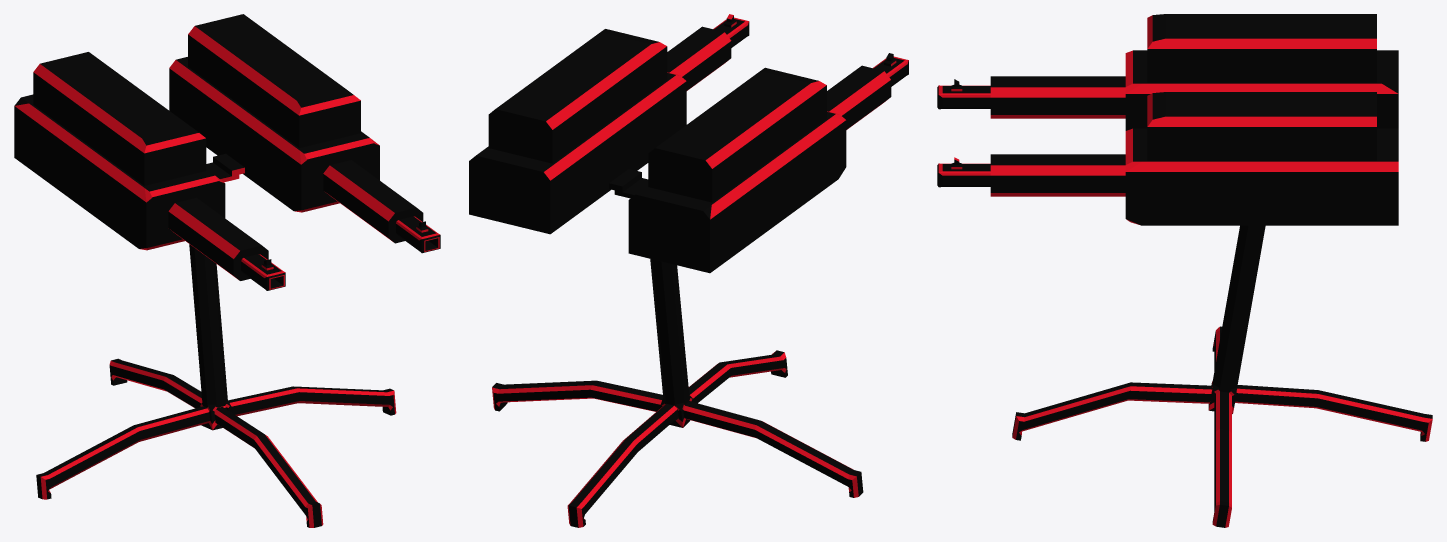
Rendered from auto-turret.fbx.
The picture shows the model from 3 angles, left to right: view 1: azimuth 30°, elevation 25°; view 2: azimuth 150°, elevation 25°; view 3: azimuth 270°, elevation 25°; orthographic projection. The views are drawn at different scales.
Visible parts, largest first — view 1: RightCanister, LeftCanister, Stand, ConnectingThing; view 2: RightCanister, LeftCanister, Stand, ConnectingThing; view 3: LeftCanister, RightCanister, Stand.
Part boxes in pixels (x1=…): RightCanister: x1=14, y1=52, x2=285, y2=290; LeftCanister: x1=169, y1=14, x2=440, y2=253; Stand: x1=36, y1=244, x2=396, y2=527; ConnectingThing: x1=206, y1=153, x2=244, y2=182; RightCanister: x1=628, y1=53, x2=908, y2=273; LeftCanister: x1=469, y1=14, x2=749, y2=234; Stand: x1=492, y1=259, x2=863, y2=527; ConnectingThing: x1=609, y1=169, x2=648, y2=198; LeftCanister: x1=937, y1=92, x2=1398, y2=225; RightCanister: x1=937, y1=14, x2=1398, y2=130; Stand: x1=1012, y1=225, x2=1432, y2=527.
Bounding box in the file's own units: 341 × 333 × 400.
